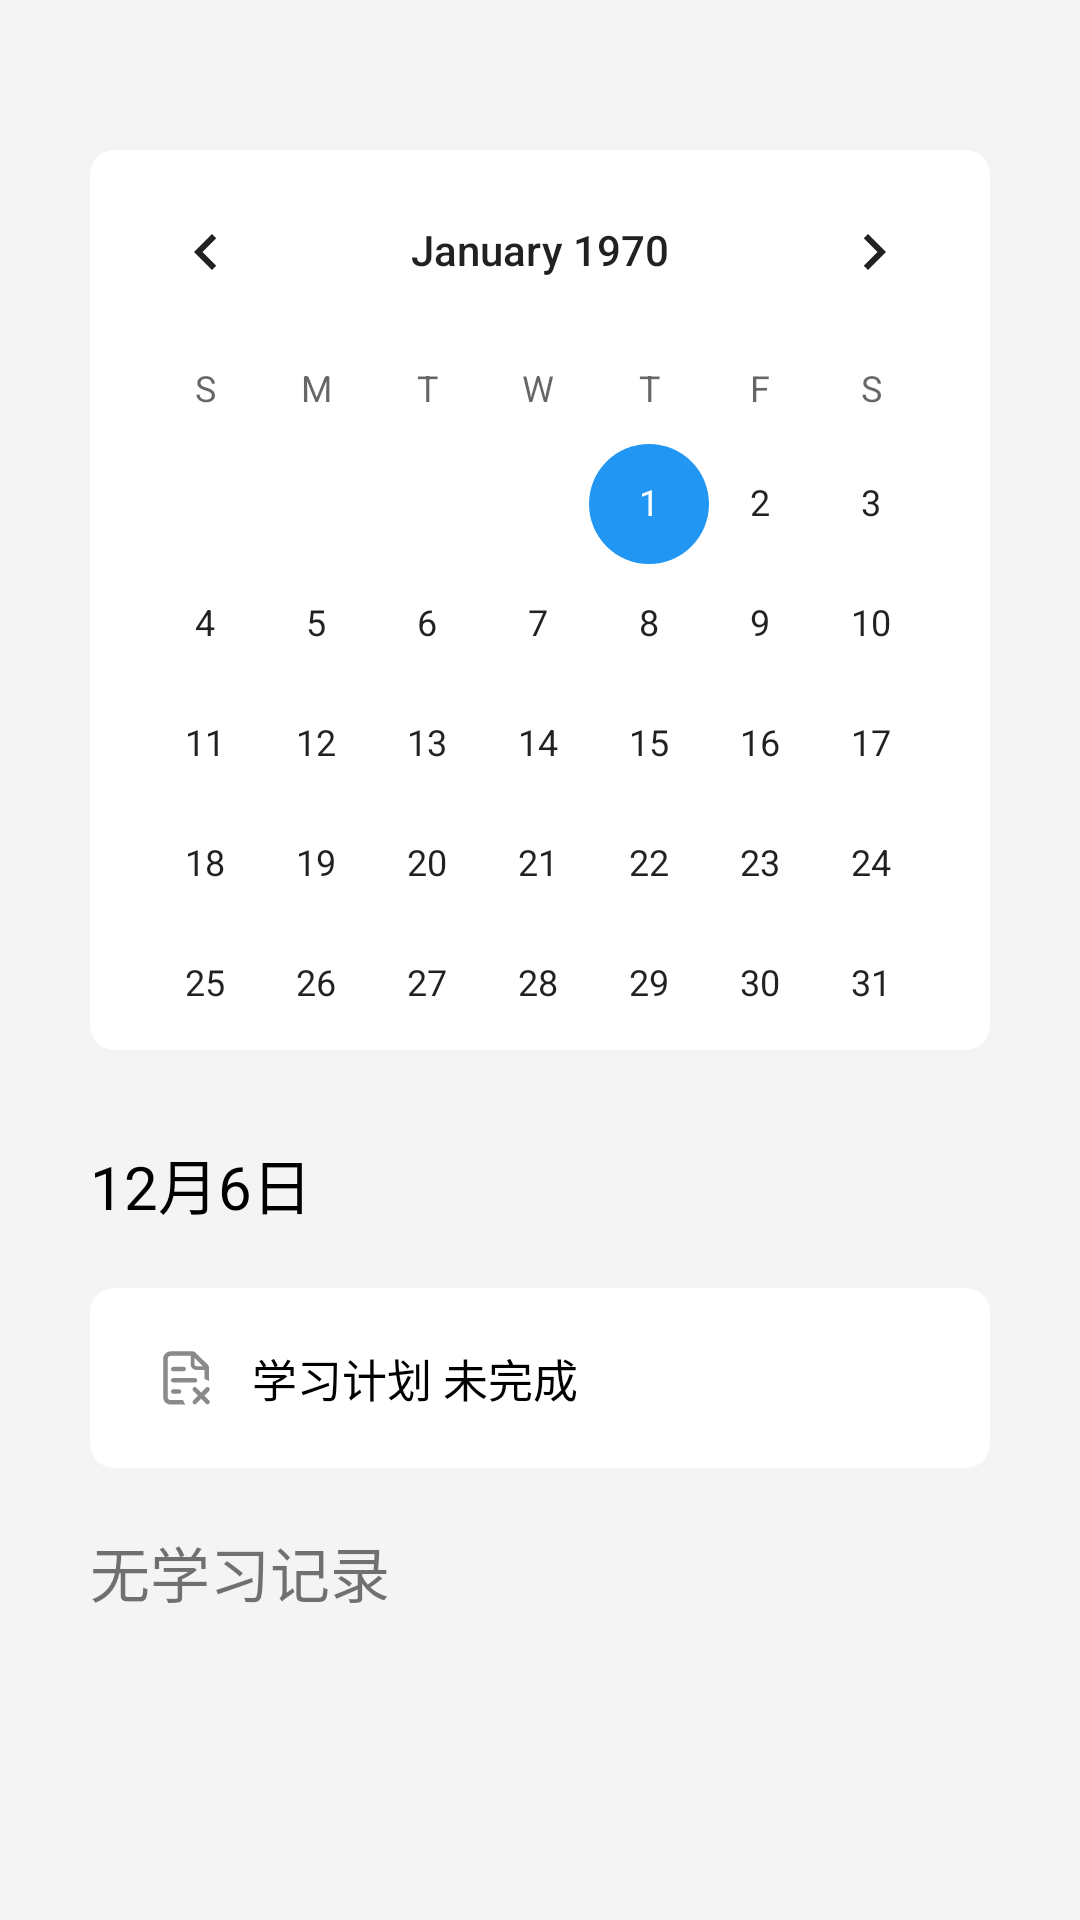

Locate icon controls on the screen. Image size 1080×1920, boxes as (x1, y1, x2, y2).
signin unfinished: (163, 1351, 210, 1405)
